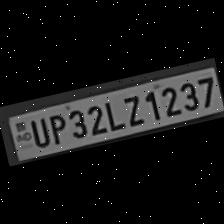1: (138, 88, 162, 124)
2: (82, 101, 108, 137), (156, 83, 182, 119)
3: (62, 106, 89, 142), (175, 78, 200, 114)
7: (194, 73, 219, 109)
L: (101, 96, 125, 134)
P: (45, 110, 70, 147)
U: (26, 116, 50, 150)
Z: (118, 92, 146, 130)
